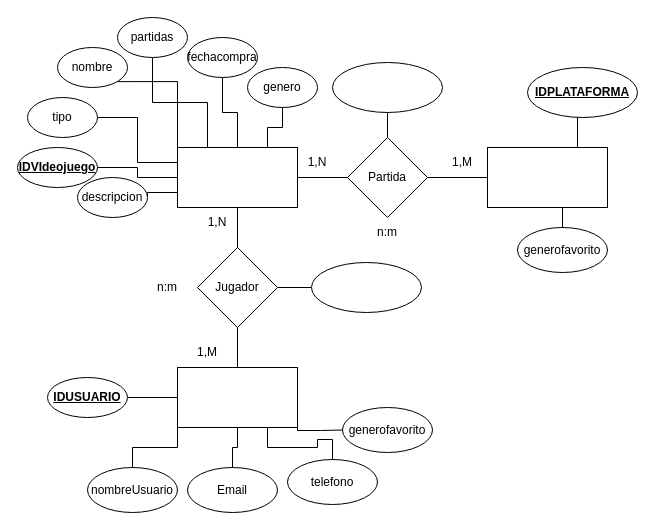
This 655x530 diagram has some shape labels left out. Each missing label, with the centre of its shape:
"IDJUGADOR" belongs at pixel 366 287.
"IDPARTIDA" belongs at pixel 387 87.
"Plataforma" belongs at pixel 547 177.
"Usuario" belongs at pixel 237 397.
"Videojuego" belongs at pixel 237 177.
